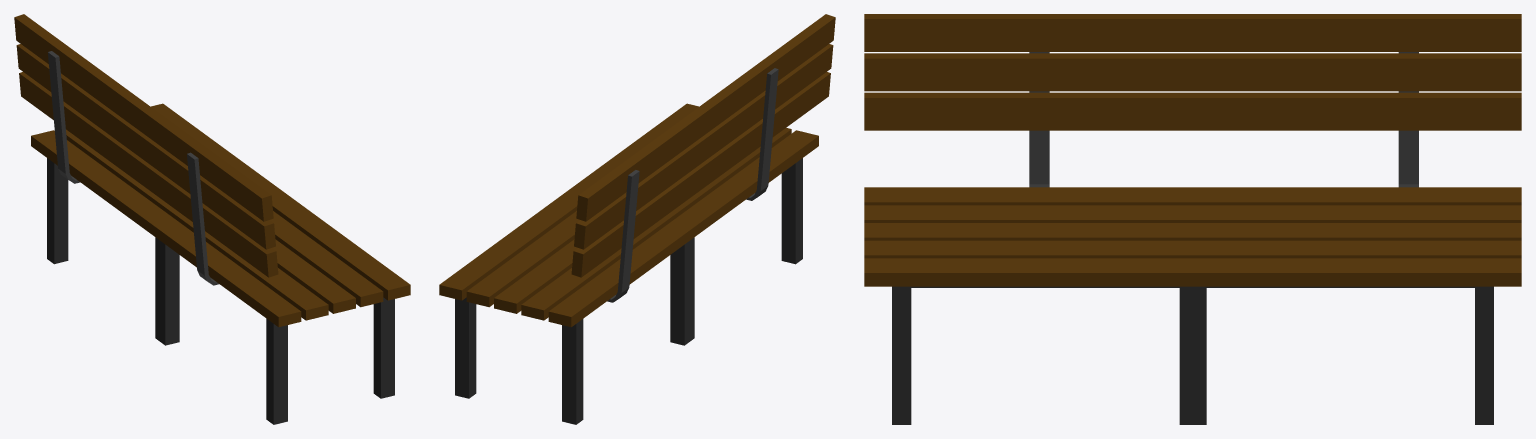
File: Banco.fbx
The picture shows the model from 3 angles, left to right: view 1: azimuth 30°, elevation 25°; view 2: azimuth 150°, elevation 25°; view 3: azimuth 270°, elevation 25°; orthographic projection. The views are drawn at different scales.
Visible parts, largest first — view 1: Cube.037, Cube.039, Cube.036, Cube.040, Cube.041; view 2: Cube.037, Cube.039, Cube.036, Cube.041, Cube.040; view 3: Cube.039, Cube.037, Cube.036, Cube.040, Cube.041.
Part boxes in pixels (bbox=[...]): Cube.037: bbox=[31, 103, 410, 327]; Cube.039: bbox=[14, 14, 278, 277]; Cube.036: bbox=[47, 158, 394, 424]; Cube.040: bbox=[187, 152, 219, 285]; Cube.041: bbox=[48, 51, 80, 183]; Cube.037: bbox=[439, 103, 818, 327]; Cube.039: bbox=[571, 14, 835, 277]; Cube.036: bbox=[455, 158, 802, 424]; Cube.041: bbox=[607, 170, 639, 302]; Cube.040: bbox=[746, 68, 778, 200]; Cube.039: bbox=[864, 14, 1521, 130]; Cube.037: bbox=[864, 187, 1521, 286]; Cube.036: bbox=[892, 286, 1493, 424]; Cube.040: bbox=[1029, 52, 1049, 187]; Cube.041: bbox=[1398, 52, 1418, 187].
Size of the model in its own units: 152 by 227 by 424.
